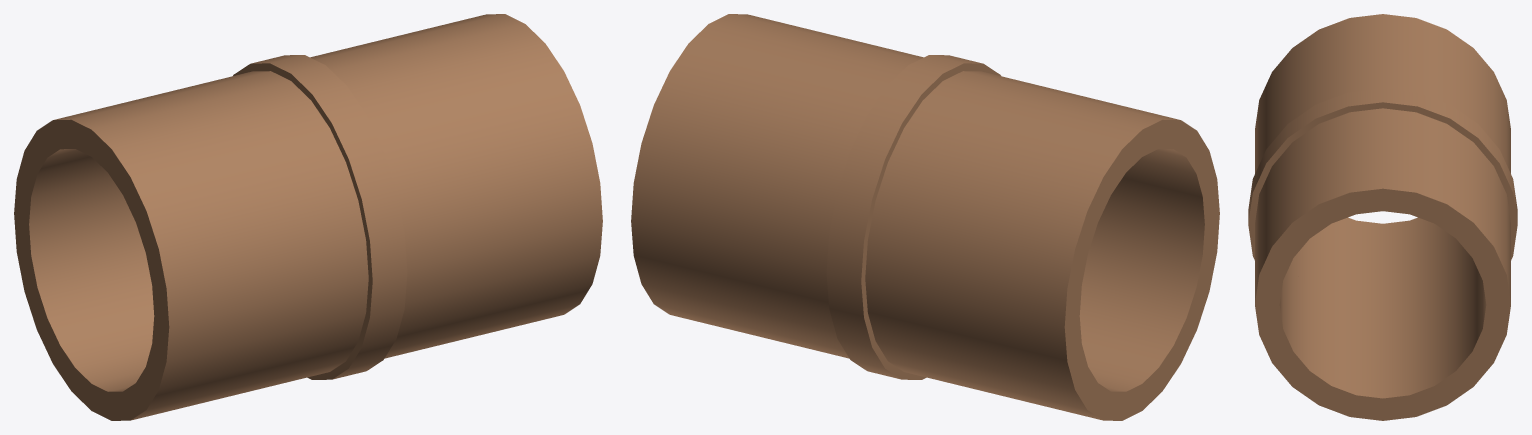
The model's file is HID-CNX-004.glb.
3 views of the same model, side by side, from view 1: azimuth 30°, elevation 25°; view 2: azimuth 150°, elevation 25°; view 3: azimuth 270°, elevation 25° (orthographic). The views are drawn at different scales.
Visible parts, largest first — view 1: HID-CNX-004_luva, HID-CNX-004_frisio; view 2: HID-CNX-004_luva, HID-CNX-004_frisio; view 3: HID-CNX-004_luva, HID-CNX-004_frisio.
Part boxes in pixels (left/top/right/bottom): HID-CNX-004_luva: left=14, top=14, right=602, bottom=420; HID-CNX-004_frisio: left=233, top=55, right=407, bottom=379; HID-CNX-004_luva: left=631, top=14, right=1219, bottom=420; HID-CNX-004_frisio: left=826, top=55, right=1000, bottom=379; HID-CNX-004_luva: left=1255, top=14, right=1510, bottom=420; HID-CNX-004_frisio: left=1248, top=88, right=1517, bottom=317.
Size of the model in its own units: 0.05 by 0.0326 by 0.0326.
